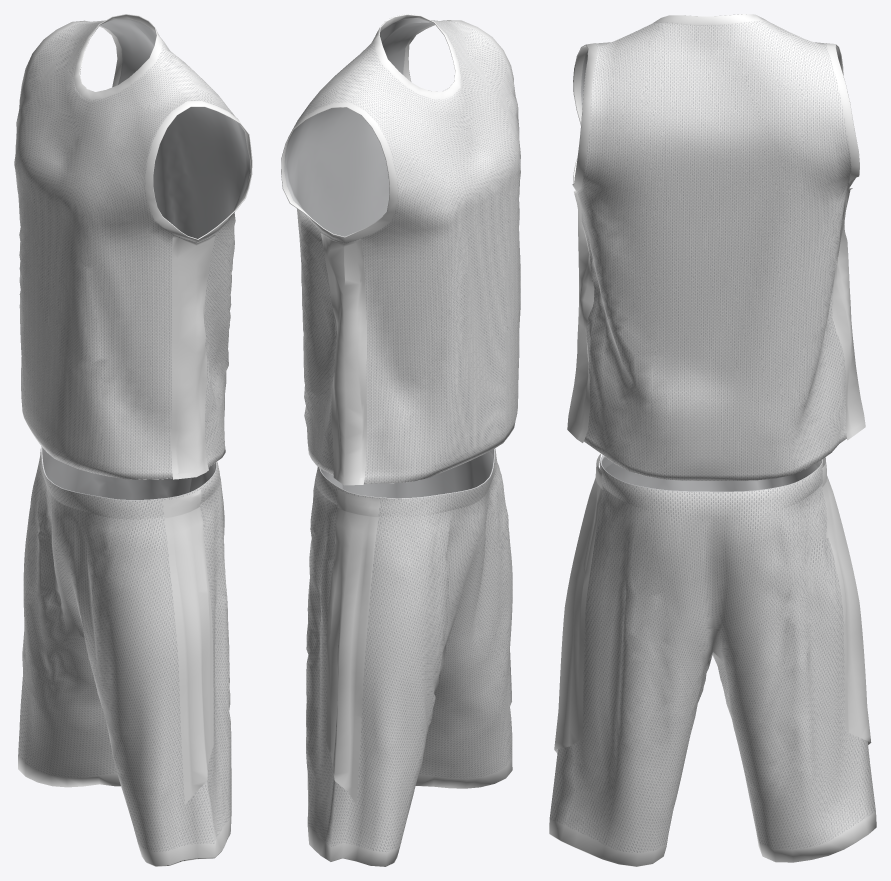
The model's file is jersey-larger-texture.gltf.
The picture shows the model from 3 angles, left to right: view 1: azimuth 30°, elevation 25°; view 2: azimuth 150°, elevation 25°; view 3: azimuth 270°, elevation 25°; orthographic projection. The views are drawn at different scales.
Visible parts, largest first — view 1: <name>_Default, <name>_Pattern_1; view 2: <name>_Default, <name>_Pattern_1; view 3: <name>_Default, <name>_Pattern_1.
Boxes of the visible parts, box(x1,y1,x2,y2) form: <name>_Default: box(14, 14, 252, 866); <name>_Pattern_1: box(162, 233, 215, 804); <name>_Default: box(281, 14, 520, 866); <name>_Pattern_1: box(320, 231, 379, 804); <name>_Default: box(549, 14, 876, 866); <name>_Pattern_1: box(554, 188, 871, 752).
Bounding box in the file's own units: 0.9911 × 4.66 × 1.66.
Materials: 4 (1 with a texture image).
